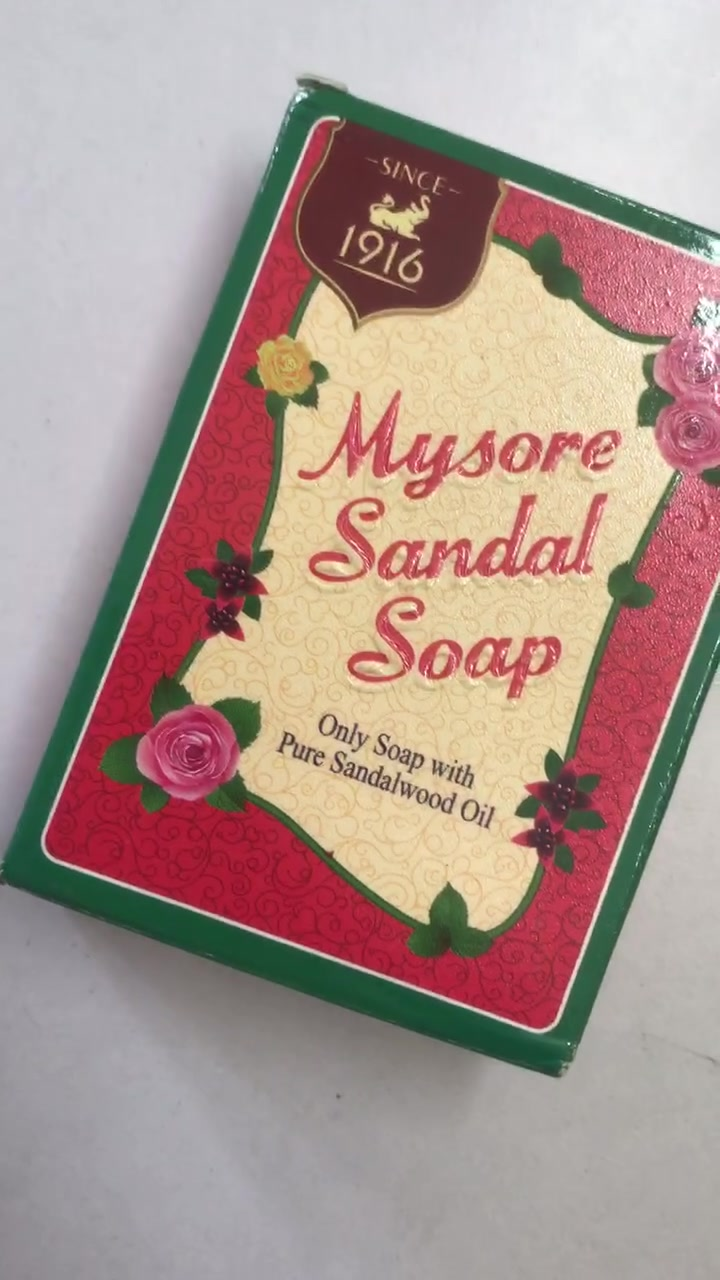mysore sandal soap: (13, 77, 717, 1080)
